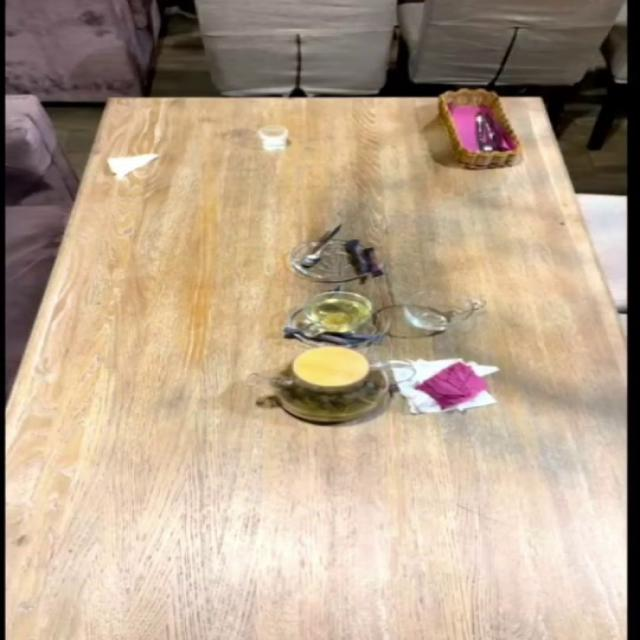tea: (268, 345, 390, 424)
